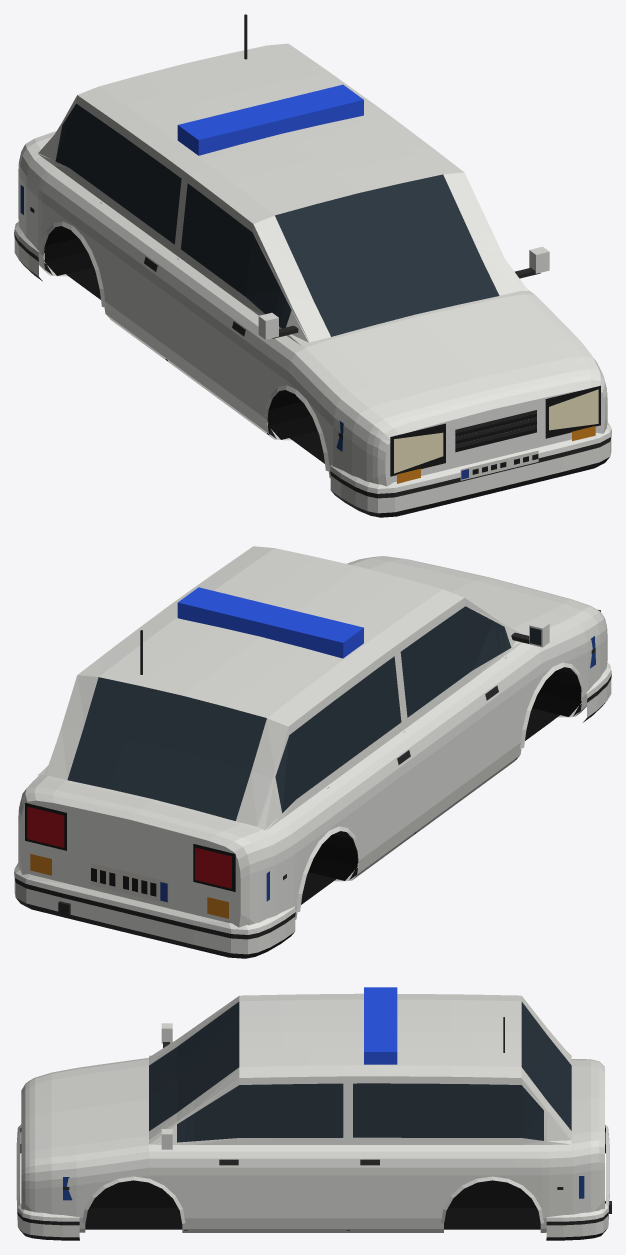
The model's file is marelo-sirio-patrulla.glb.
3 renders of one model, top to bottom at view 1: azimuth 30°, elevation 25°; view 2: azimuth 150°, elevation 25°; view 3: azimuth 270°, elevation 25°, orthographic. The views are drawn at different scales.
Parts seen in each view (by area): view 1: LOD0, door_FR, door_RR; view 2: LOD0, door_FR, door_RR; view 3: LOD0, door_FL, door_RL.
Boxes of the visible parts, x1=… form: LOD0: x1=14, y1=14, x2=611, y2=517; door_FR: x1=164, y1=175, x2=286, y2=431; door_RR: x1=86, y1=117, x2=182, y2=356; LOD0: x1=14, y1=546, x2=611, y2=958; door_FR: x1=399, y1=598, x2=520, y2=829; door_RR: x1=320, y1=648, x2=417, y2=873; LOD0: x1=16, y1=987, x2=611, y2=1240; door_FL: x1=186, y1=1076, x2=346, y2=1228; door_RL: x1=350, y1=1076, x2=470, y2=1228.
Size of what is drawn, in the model's own units: 1.89 by 1.55 by 4.3.
